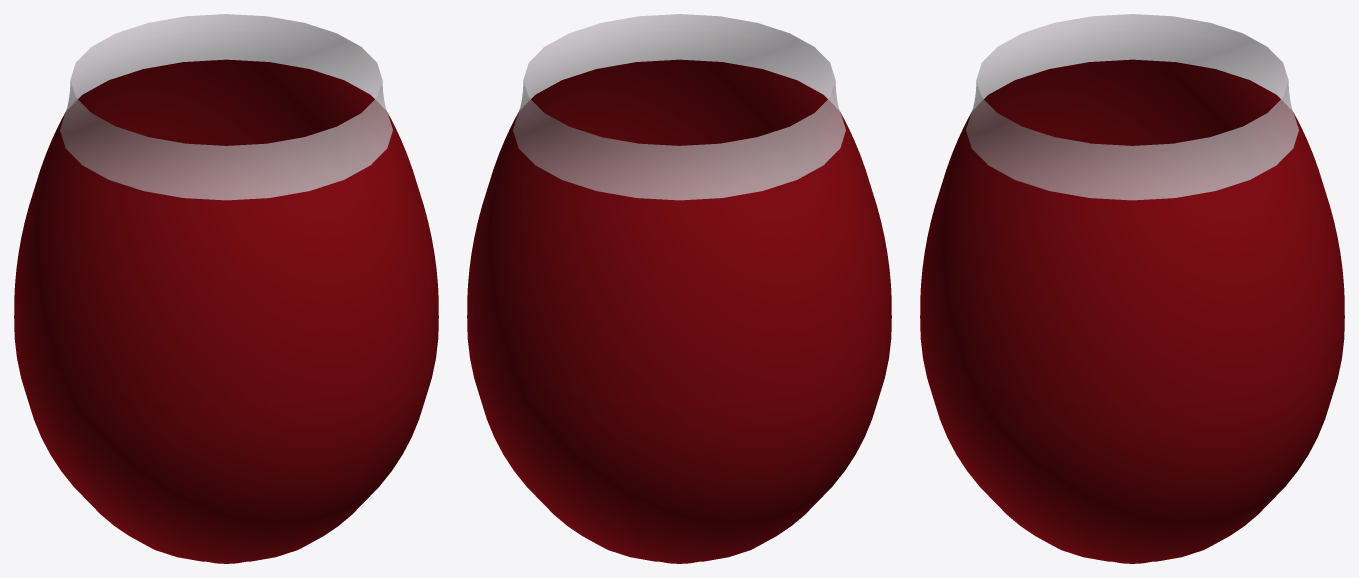
File: beer_content3.obj
3 renders of one model, left to right at view 1: azimuth 30°, elevation 25°; view 2: azimuth 150°, elevation 25°; view 3: azimuth 270°, elevation 25°, orthographic.
Parts seen in each view (by area): view 1: Mesh1 G_13oz_Libbey_Belgian_Snifter1 Model; view 2: Mesh1 G_13oz_Libbey_Belgian_Snifter1 Model; view 3: Mesh1 G_13oz_Libbey_Belgian_Snifter1 Model.
Part boxes in pixels (x1,y1,x2,y2): Mesh1 G_13oz_Libbey_Belgian_Snifter1 Model: (14,14,438,563); Mesh1 G_13oz_Libbey_Belgian_Snifter1 Model: (467,14,891,563); Mesh1 G_13oz_Libbey_Belgian_Snifter1 Model: (920,14,1344,563).
Bounding box in the file's own units: 2.78 × 3.43 × 2.78.
